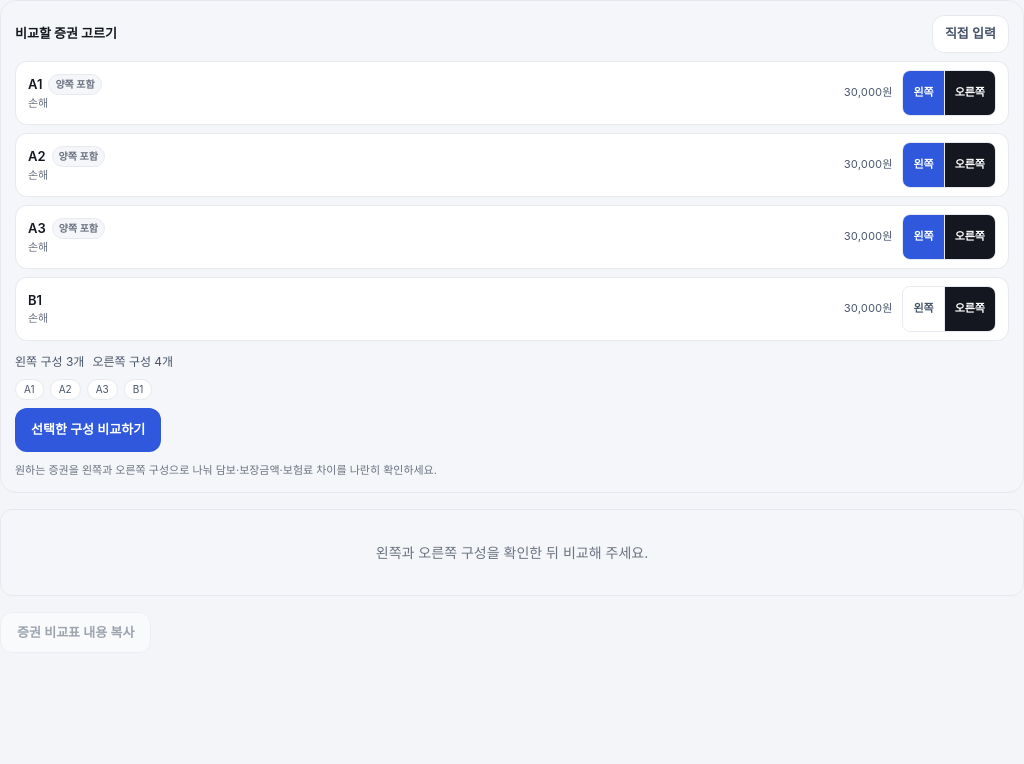
it: multi-policy overlap selection › keeps the existing copy failure guidance after a current comparison
This screenshot has width=1024, height=764.
Expected: the button with aria-label "A1 왼쪽에서 제외" is shown, [903,70,944,114]
Click the button "선택한 구성 비교하기" at (88, 430), box [15,408,161,452]
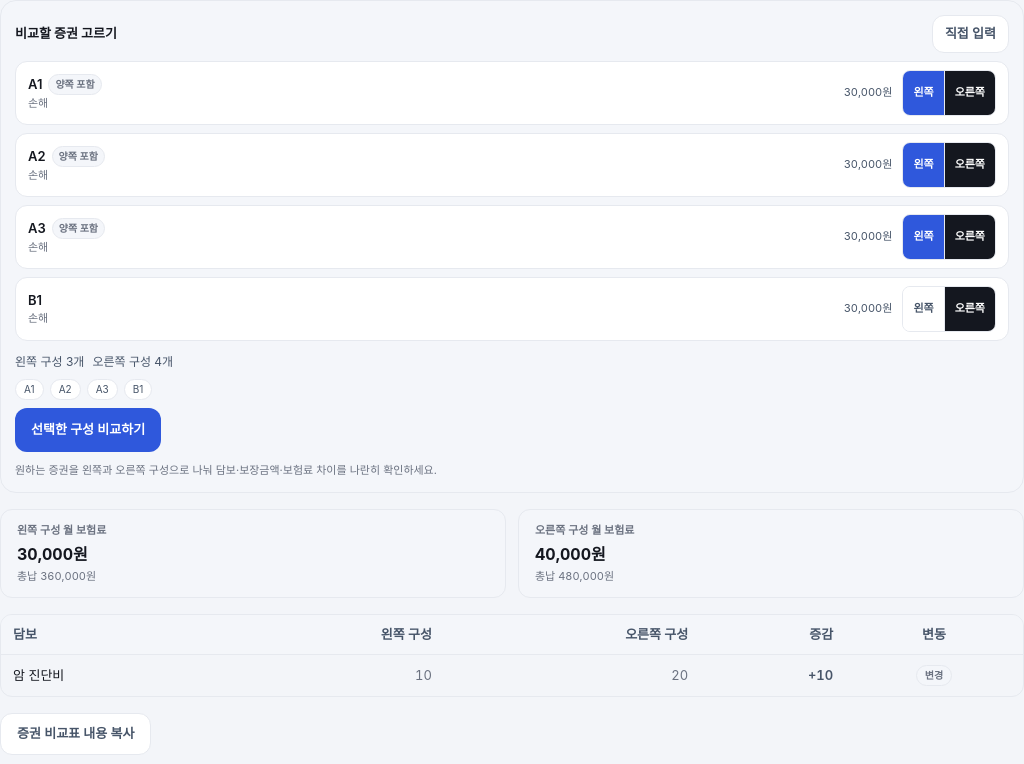
Click the button "증권 비교표 내용 복사" at (76, 734), box [0,713,152,754]
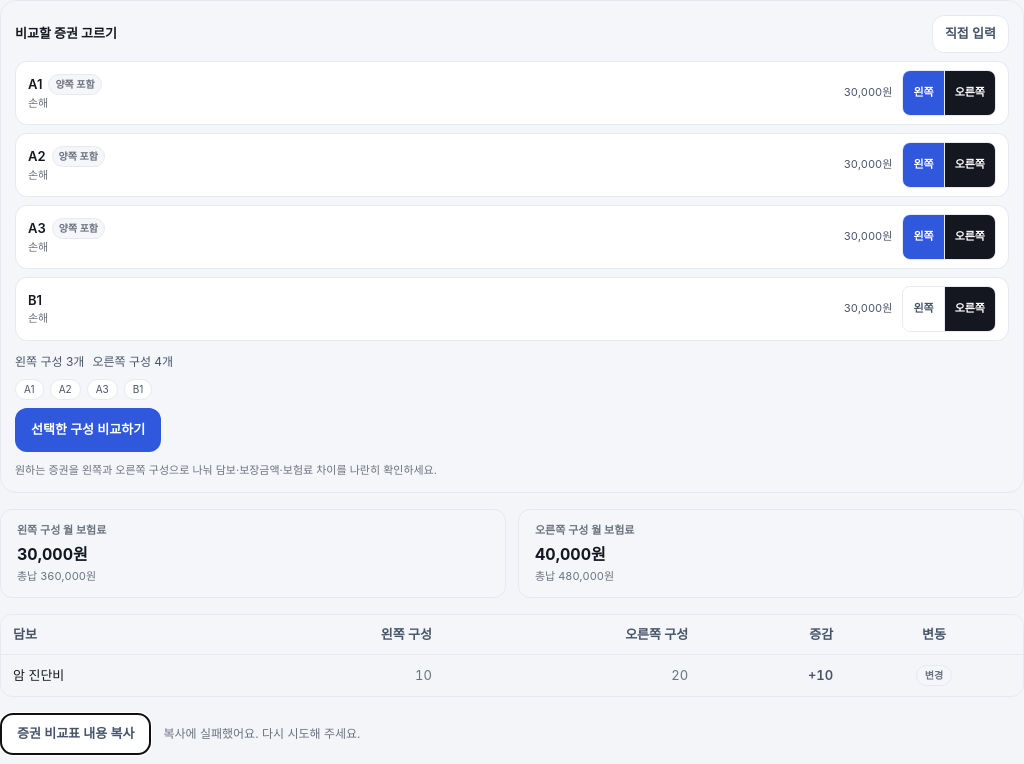
Expected: the text "복사에 실패했어요. 다시 시도해 주세요." is shown, [164,725,361,743]
